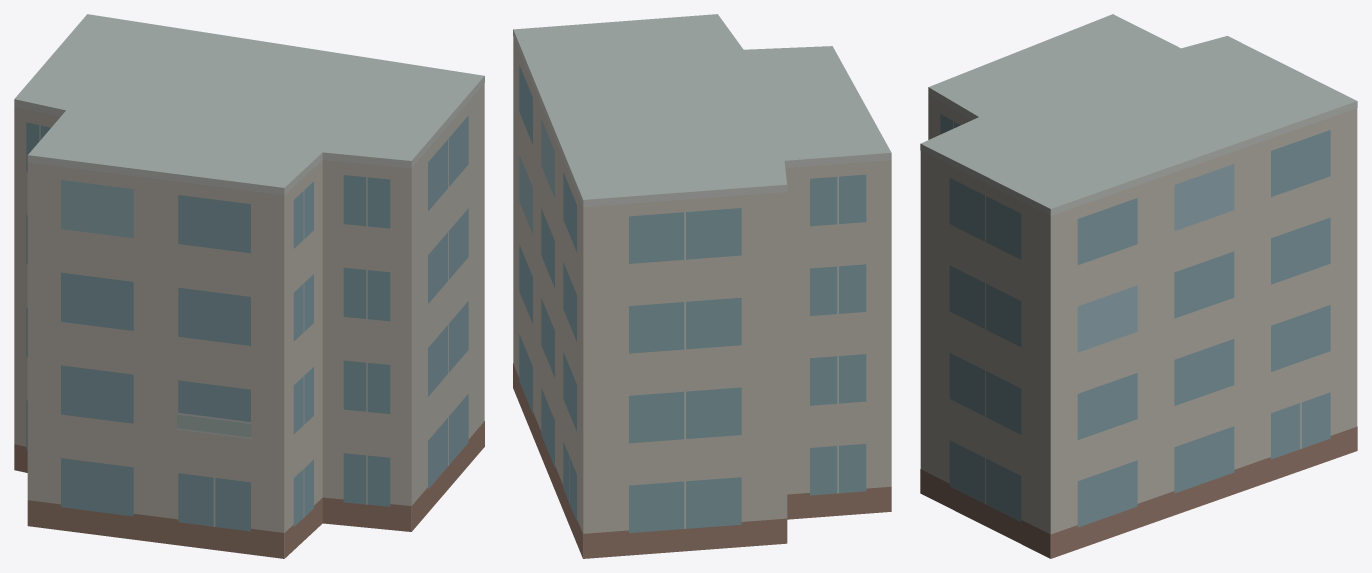
Rendered from survey-upis-32629690.glb.
3 renders of one model, left to right at view 1: azimuth 30°, elevation 25°; view 2: azimuth 150°, elevation 25°; view 3: azimuth 270°, elevation 25°, orthographic. The views are drawn at different scales.
Parts seen in each view (by area): view 1: survey-upis-32629690.tmp; view 2: survey-upis-32629690.tmp; view 3: survey-upis-32629690.tmp.
Boxes of the visible parts, <box> form: survey-upis-32629690.tmp: <box>14,14,484,558</box>; survey-upis-32629690.tmp: <box>513,14,891,558</box>; survey-upis-32629690.tmp: <box>920,14,1357,558</box>.
Size of the model in its own units: 14.72 by 12.3 by 13.93.
